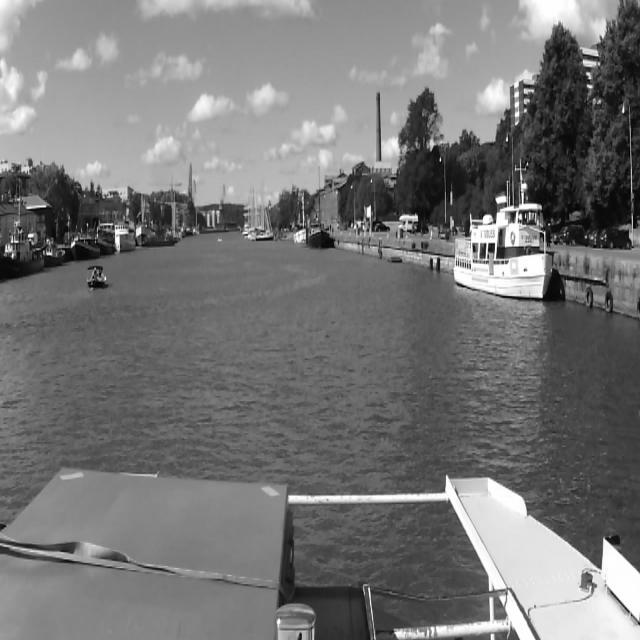ship: (451, 156, 553, 300), (1, 226, 44, 282), (255, 183, 271, 244), (114, 221, 136, 257), (305, 222, 331, 250), (146, 233, 182, 251), (88, 264, 106, 292)
